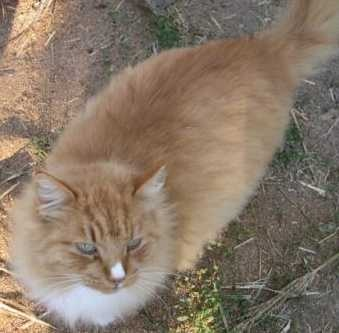Cat: (10, 28, 295, 326)
